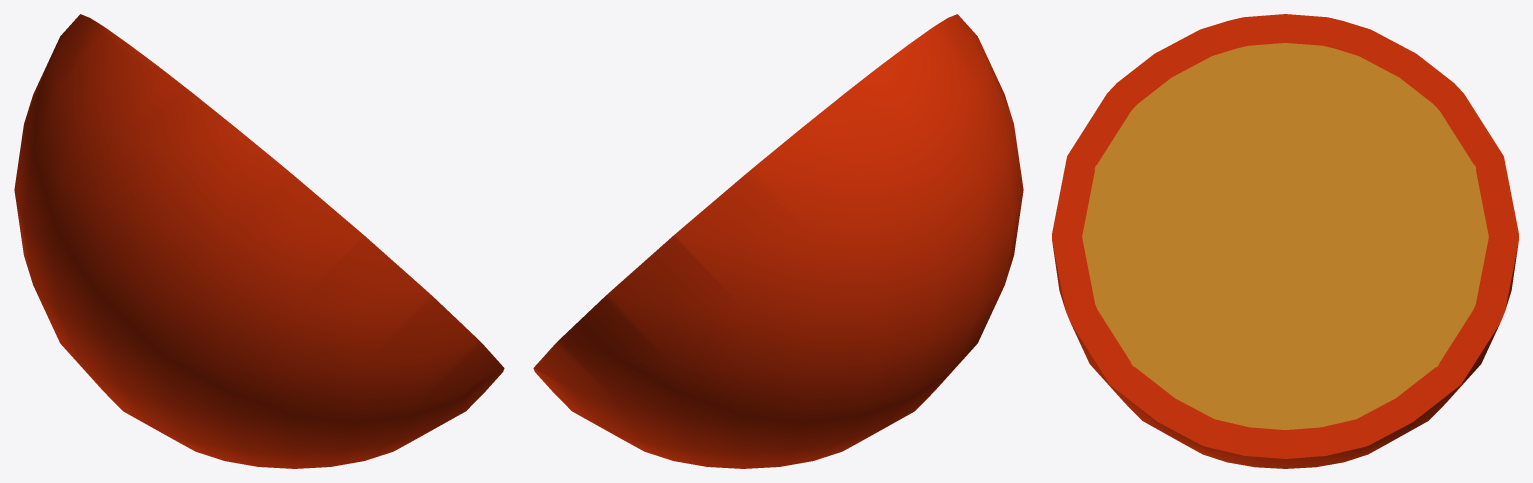
Rendered from orange2.fbx.
3 views of the same model, side by side, from view 1: azimuth 30°, elevation 25°; view 2: azimuth 150°, elevation 25°; view 3: azimuth 270°, elevation 25° (orthographic). The views are drawn at different scales.
Visible parts, largest first — view 1: orange2; view 2: orange2; view 3: orange2.
Part boxes in pixels (x1,y1,x2,y2): orange2: (14,14,504,468); orange2: (533,14,1023,468); orange2: (1052,14,1518,468).
Bounding box in the file's own units: 23.59 × 24.64 × 28.43.
